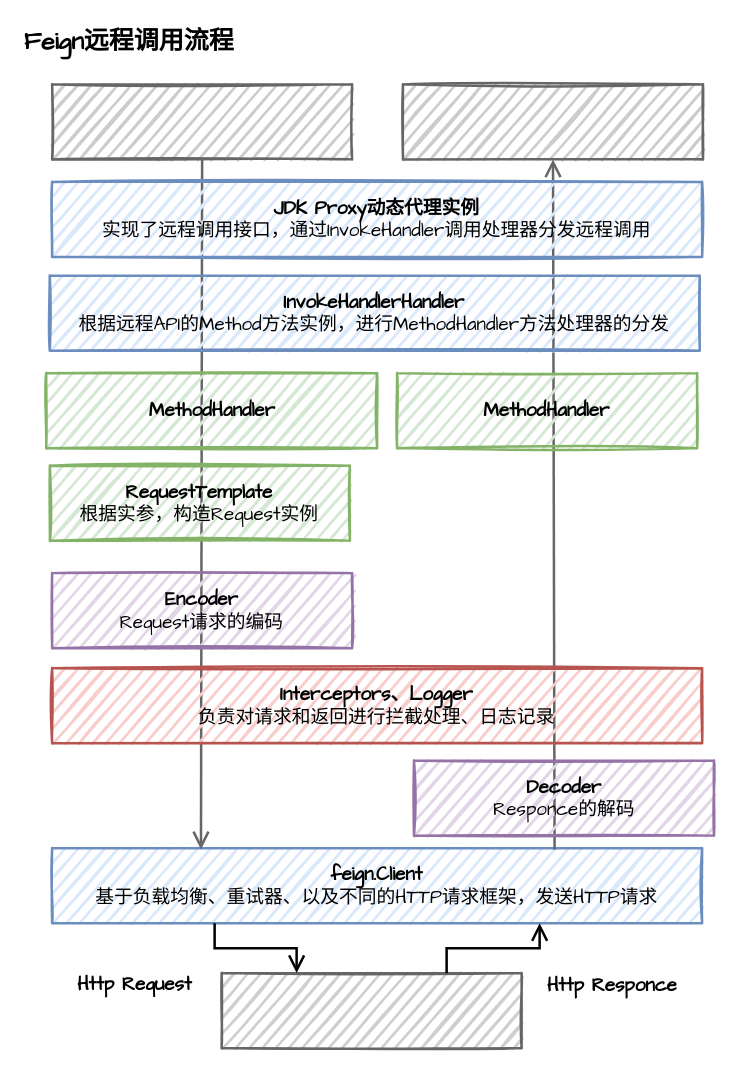
Some shapes in this 736 by 1070 pixel diagram are drawn without their labels. The centre of each missing label's shape, as x and y in pixels:
"@FeignClient远程调用接口" belongs at point 201,121.
"Response Bean" belongs at point 552,121.
"远程Server" belongs at point 371,1010.
